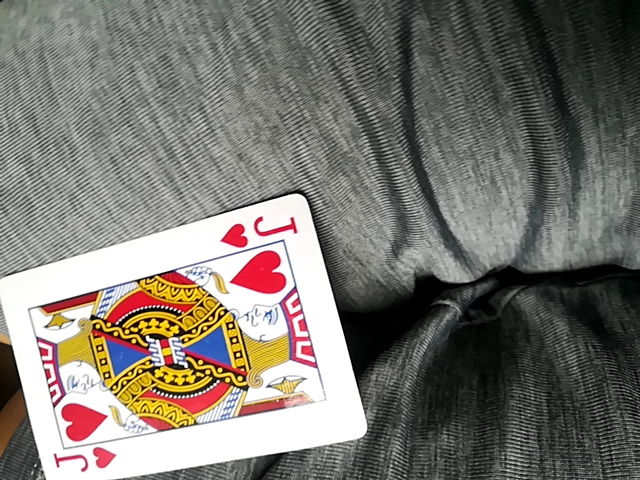hx j: (1, 191, 364, 478)
